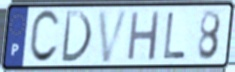8: (196, 9, 222, 63)
C: (27, 8, 62, 66)
D: (59, 9, 94, 64)
H: (125, 9, 162, 63)
L: (162, 11, 188, 61)
V: (96, 7, 131, 65)
